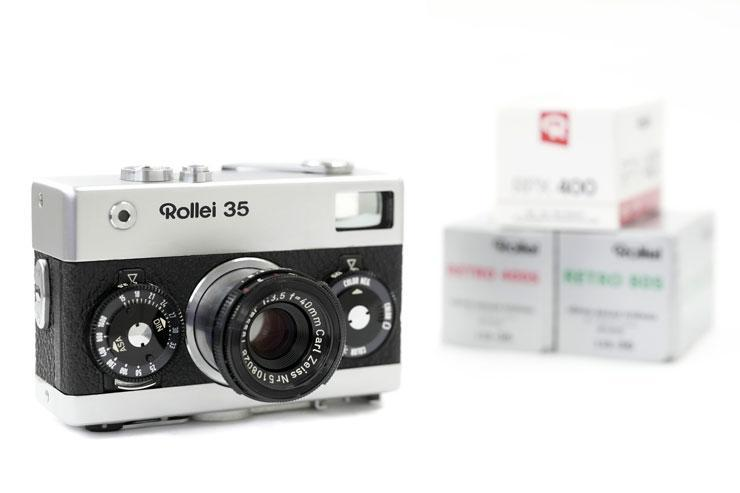degital-camera: (25, 155, 407, 441)
